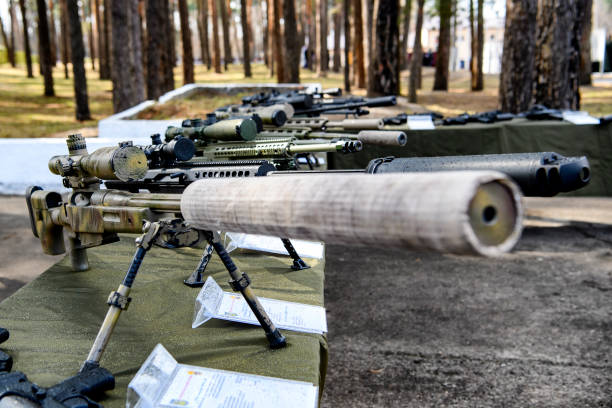rifle: (20, 132, 538, 365)
